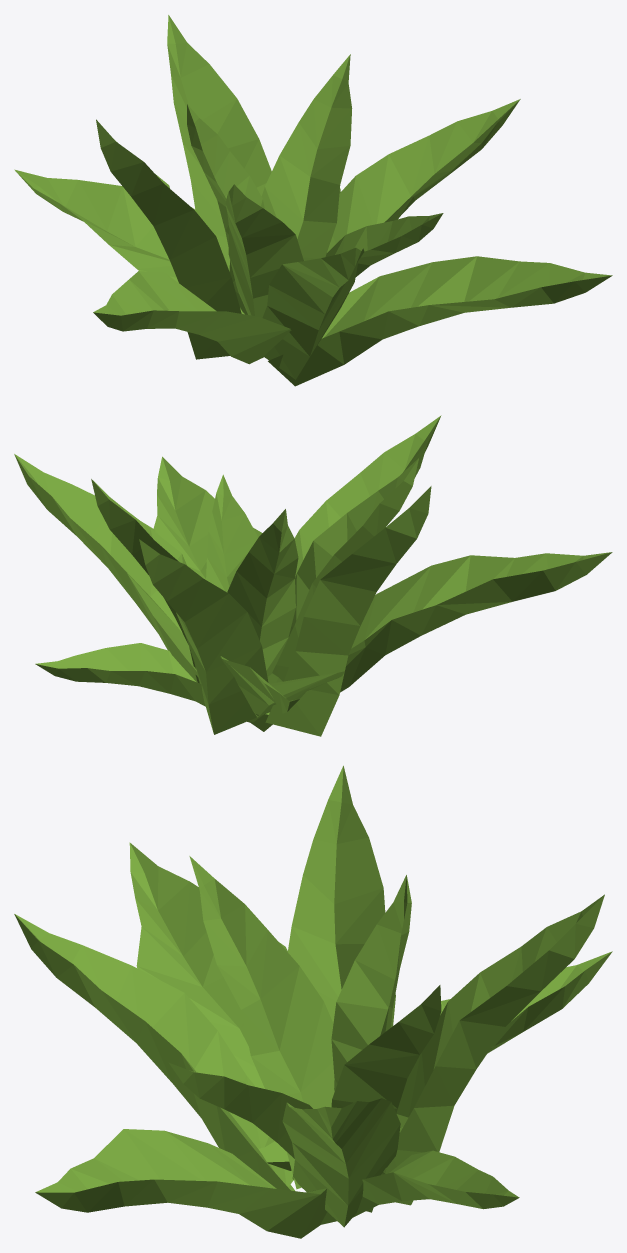
The picture shows the model from 3 angles, top to bottom: view 1: azimuth 30°, elevation 25°; view 2: azimuth 150°, elevation 25°; view 3: azimuth 270°, elevation 25°; orthographic projection. The views are drawn at different scales.
Visible parts, largest first — view 1: node_MeshObject-313353856-PolyPaper9; view 2: node_MeshObject-313353856-PolyPaper9; view 3: node_MeshObject-313353856-PolyPaper9.
Part boxes in pixels (bbox=[...]): node_MeshObject-313353856-PolyPaper9: bbox=[14, 15, 612, 386]; node_MeshObject-313353856-PolyPaper9: bbox=[14, 415, 612, 736]; node_MeshObject-313353856-PolyPaper9: bbox=[14, 765, 612, 1238].
Size of the model in its own units: 1.52 by 0.8562 by 1.27.
